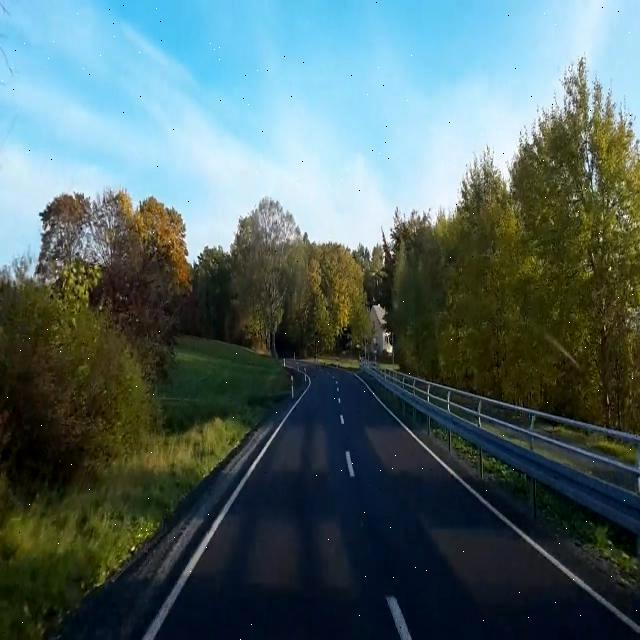lane: (355, 376, 640, 633), (141, 379, 309, 639), (387, 595, 412, 639), (345, 450, 355, 477)
road: (64, 367, 640, 639)
